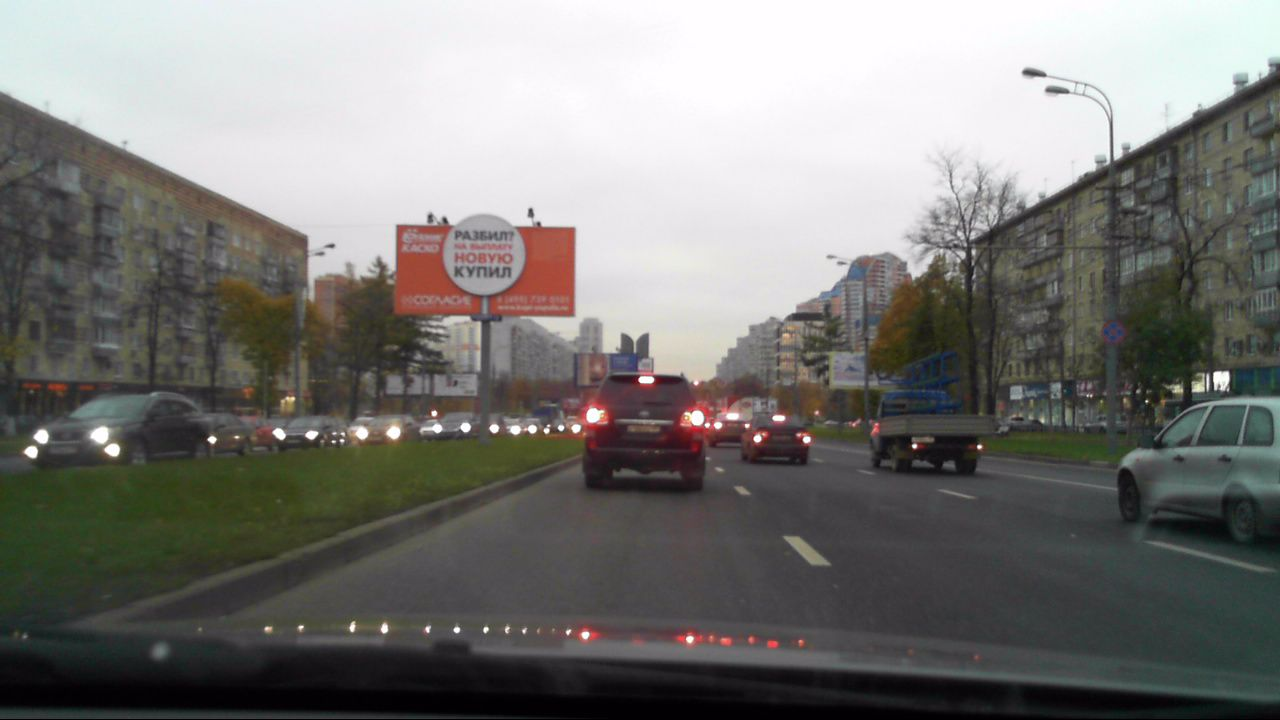No Parking: (1100, 320, 1125, 343)
